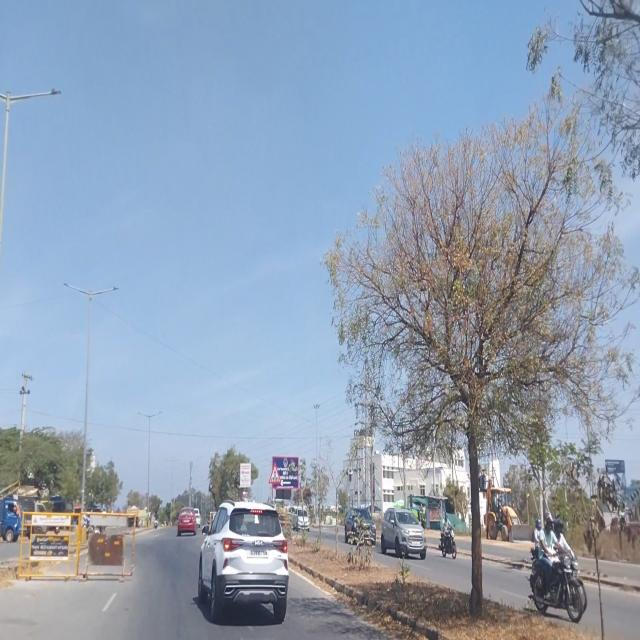bien_cam: (269, 463, 281, 485)
